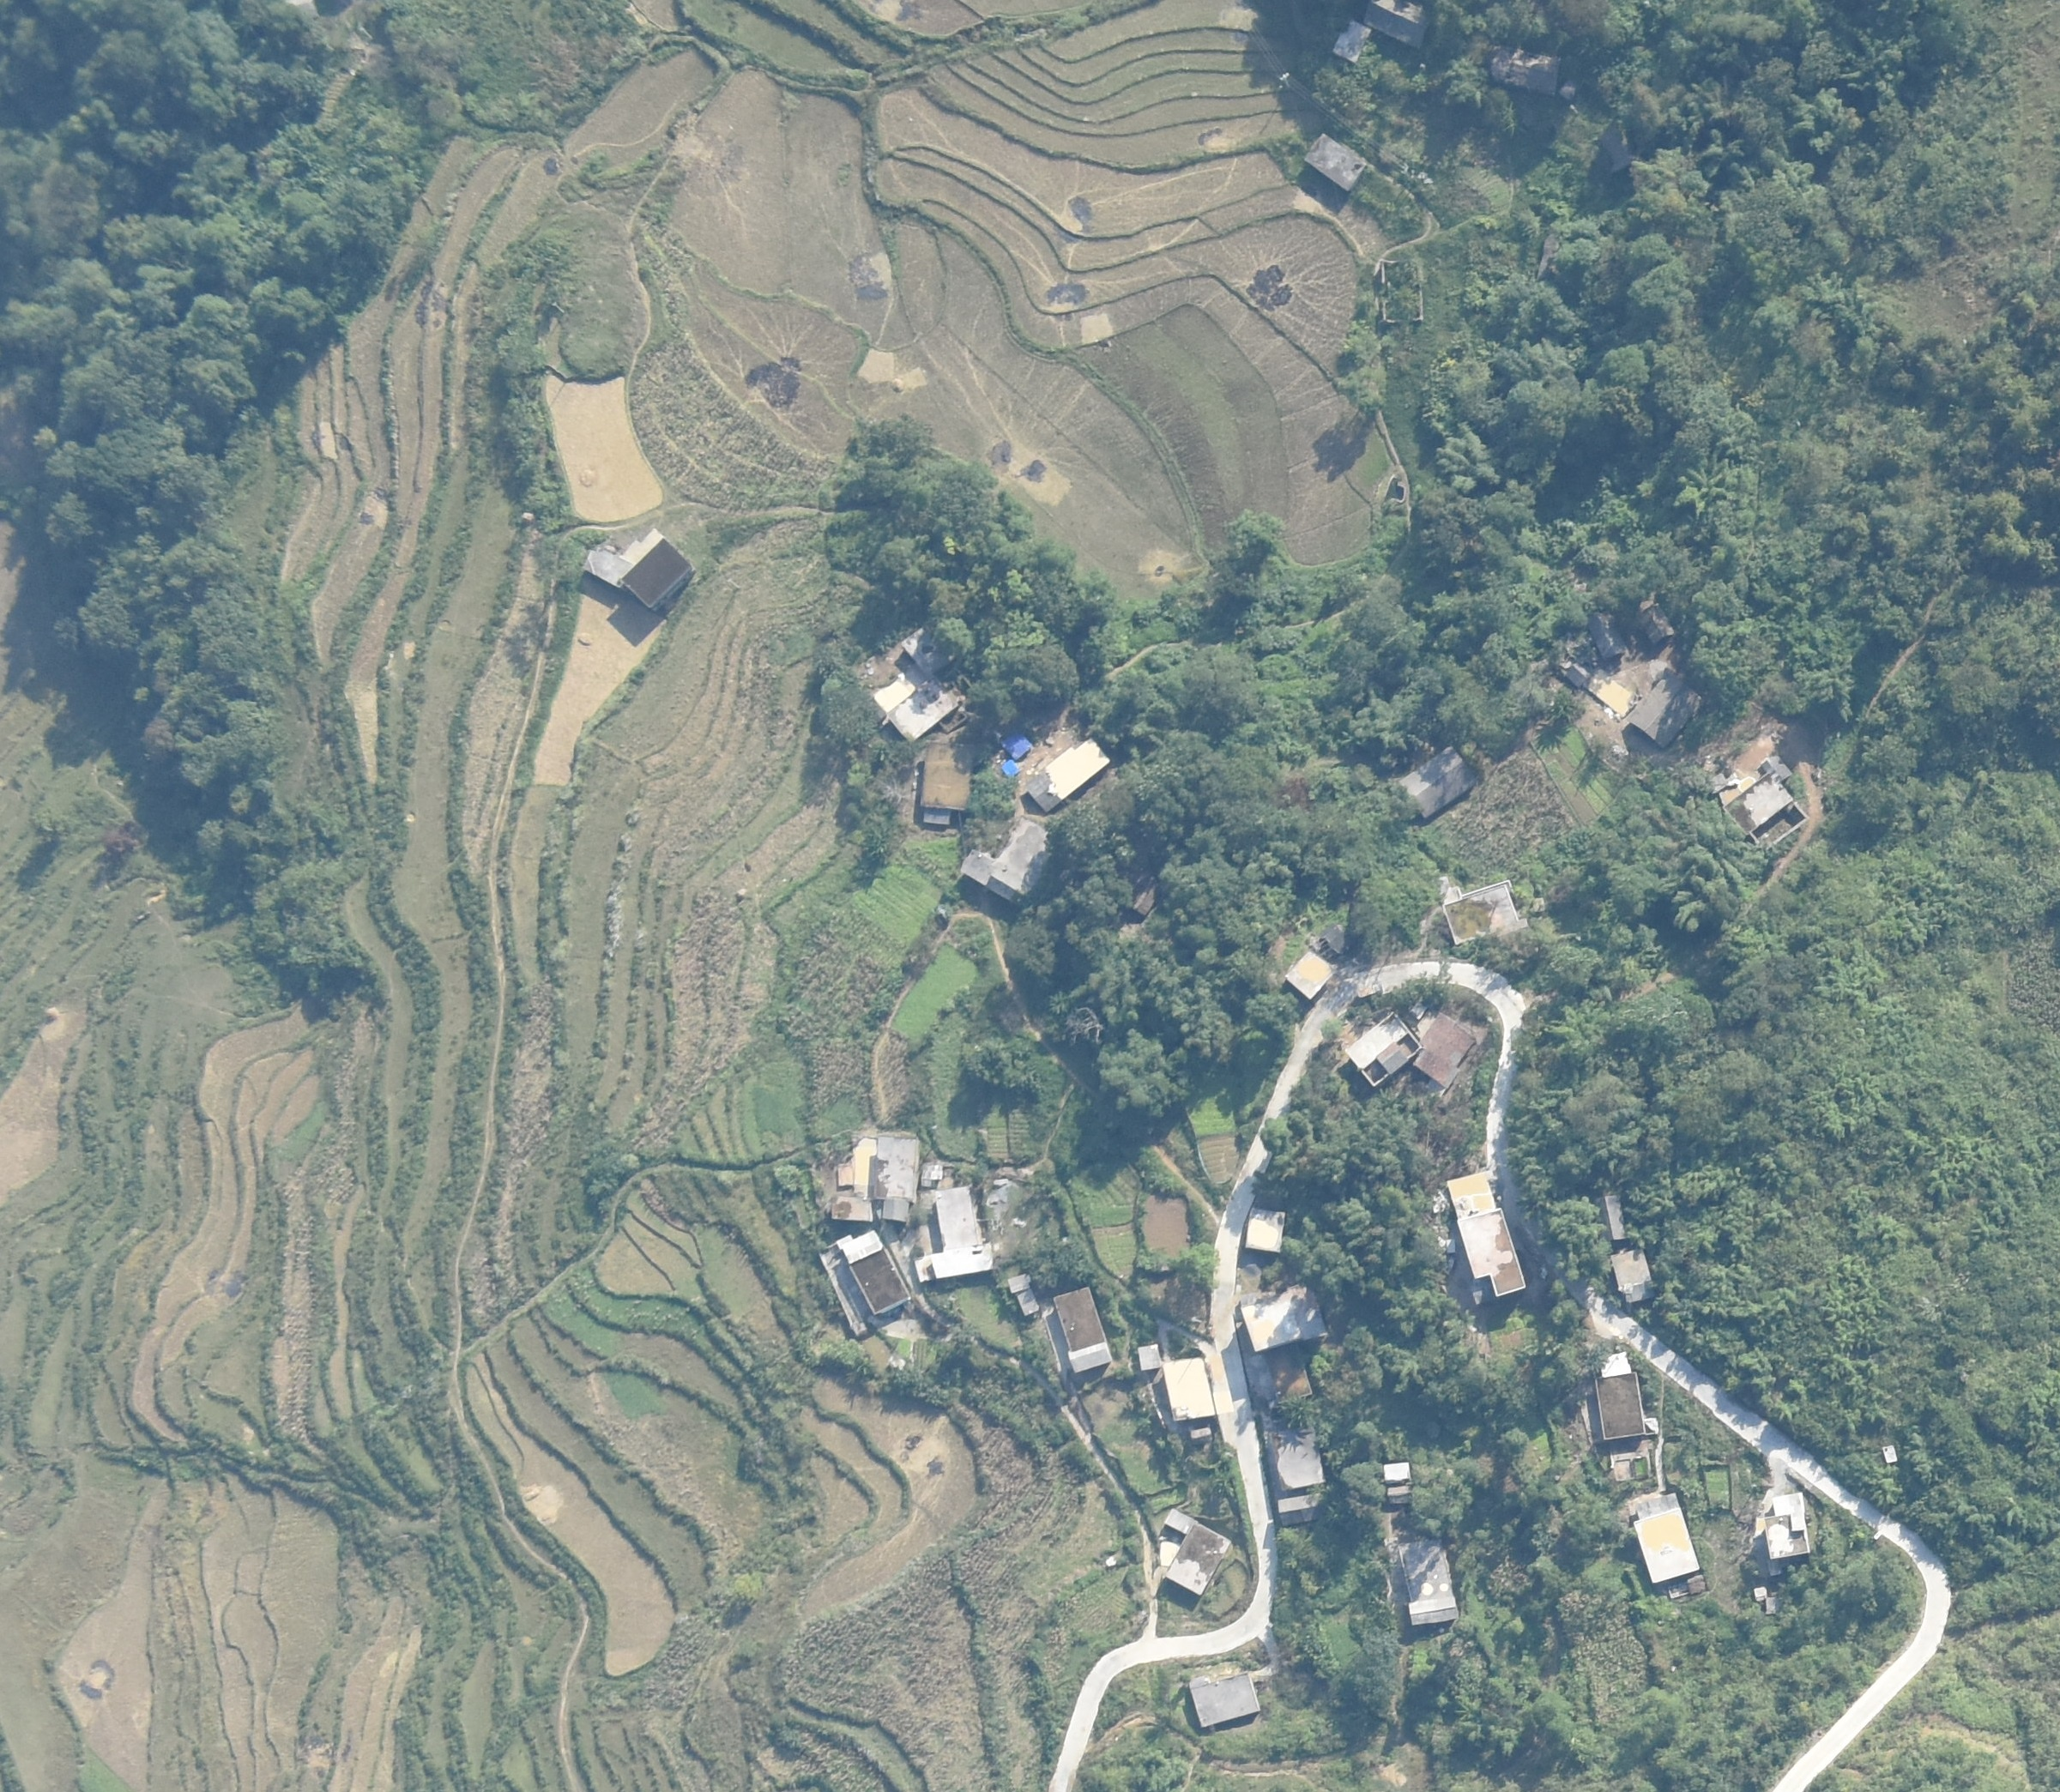building: (860, 629, 972, 741), (815, 1230, 909, 1335), (1443, 1177, 1526, 1296), (962, 815, 1053, 913), (830, 1137, 920, 1224), (1720, 755, 1810, 841), (1154, 1508, 1237, 1599), (916, 1186, 993, 1282), (1026, 736, 1112, 808), (1631, 1494, 1697, 1585), (1631, 669, 1706, 748), (1235, 1284, 1326, 1349), (1442, 881, 1527, 944), (1403, 744, 1473, 822), (1345, 1012, 1417, 1086), (624, 538, 694, 611), (1053, 1288, 1112, 1373), (1396, 1543, 1459, 1622), (1419, 1012, 1477, 1090), (1594, 1356, 1647, 1436), (923, 739, 970, 827), (1189, 1673, 1259, 1727), (1305, 131, 1368, 189), (1268, 1424, 1324, 1489), (1491, 46, 1561, 95), (1759, 1496, 1813, 1559), (1160, 1361, 1216, 1419), (1366, 0, 1429, 46), (580, 541, 631, 590), (1282, 953, 1331, 1000), (1612, 1251, 1654, 1302), (1263, 1356, 1312, 1398), (1277, 1492, 1335, 1527), (1245, 1205, 1286, 1251), (1591, 611, 1627, 659), (1337, 19, 1372, 65), (1640, 601, 1675, 643), (1594, 1196, 1627, 1240), (1009, 1275, 1041, 1317), (1132, 876, 1160, 918), (1384, 1463, 1414, 1501), (1321, 921, 1354, 955), (1563, 660, 1592, 688), (1139, 1345, 1161, 1370), (1755, 1589, 1776, 1615), (923, 1165, 944, 1188), (1188, 1428, 1210, 1447), (1883, 1445, 1899, 1464)
cable-tower: (1277, 70, 1296, 88), (1396, 161, 1415, 177)
prefabricated-house: (998, 736, 1034, 776)
